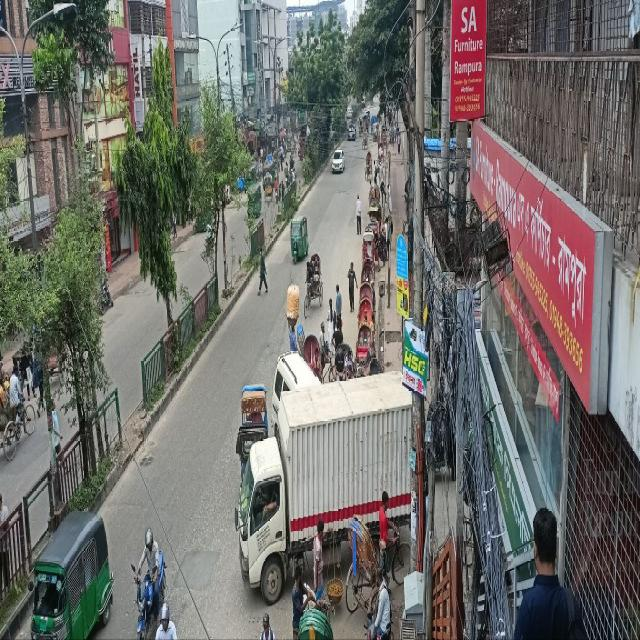people: (310, 515, 346, 606), (370, 563, 392, 640), (286, 282, 300, 354), (256, 242, 269, 299), (347, 261, 358, 313), (334, 285, 344, 333), (327, 295, 335, 354), (355, 192, 363, 235), (386, 178, 394, 215), (376, 160, 384, 183), (372, 157, 378, 187)
vehicle: (234, 371, 410, 604), (28, 510, 116, 640), (345, 487, 411, 617), (272, 350, 324, 444), (132, 525, 168, 640), (292, 562, 335, 640), (236, 380, 269, 480), (297, 320, 338, 380), (303, 253, 324, 319), (302, 332, 322, 379), (290, 215, 308, 264), (354, 323, 371, 374), (334, 343, 356, 380), (357, 297, 376, 330), (368, 183, 382, 218), (360, 266, 378, 292), (362, 229, 376, 260), (331, 147, 346, 175), (358, 280, 374, 306), (377, 229, 388, 264), (364, 150, 374, 183), (346, 119, 358, 142), (378, 141, 385, 170), (361, 110, 370, 131), (362, 128, 369, 150), (372, 120, 379, 142)
